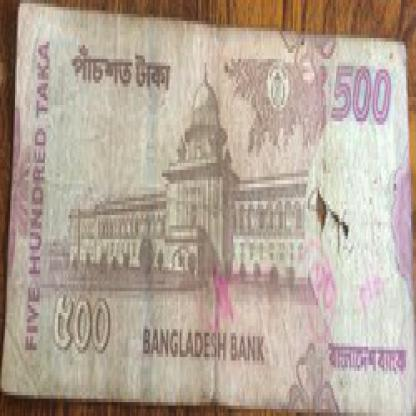500 taka: (57, 38, 188, 111)
currency: (10, 18, 414, 413)
